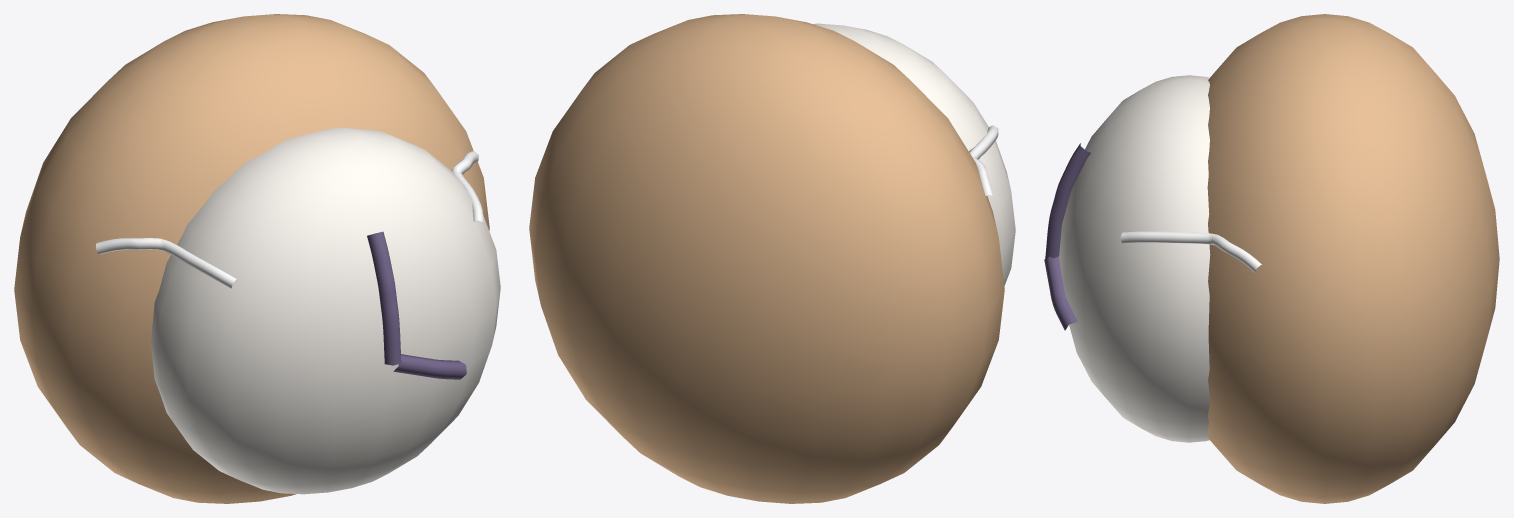
Rendered from decor_4_classic.glb.
The picture shows the model from 3 angles, left to right: view 1: azimuth 30°, elevation 25°; view 2: azimuth 150°, elevation 25°; view 3: azimuth 270°, elevation 25°; orthographic projection. The views are drawn at different scales.
Visible parts, largest first — view 1: decor_4_classic; view 2: decor_4_classic; view 3: decor_4_classic.
Part boxes in pixels (bbox=[...]): decor_4_classic: bbox=[14, 14, 500, 503]; decor_4_classic: bbox=[529, 14, 1015, 503]; decor_4_classic: bbox=[1044, 14, 1499, 503].
Size of the model in its own units: 8 by 8 by 7.44.
